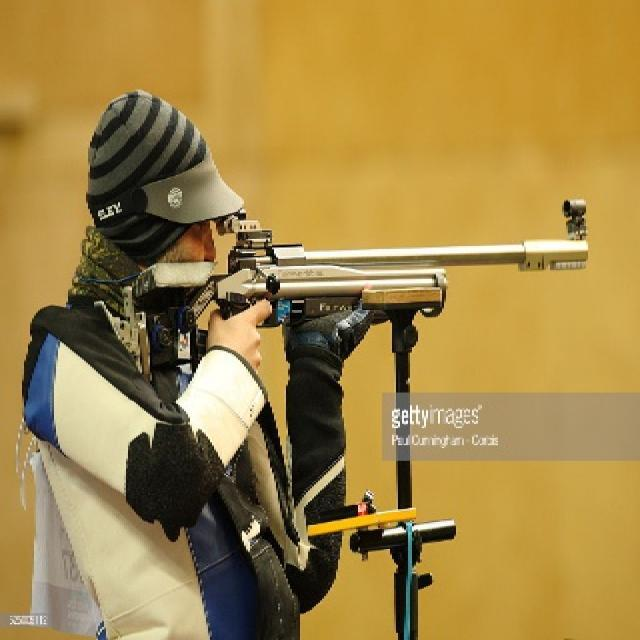weapon: (122, 190, 596, 360)
